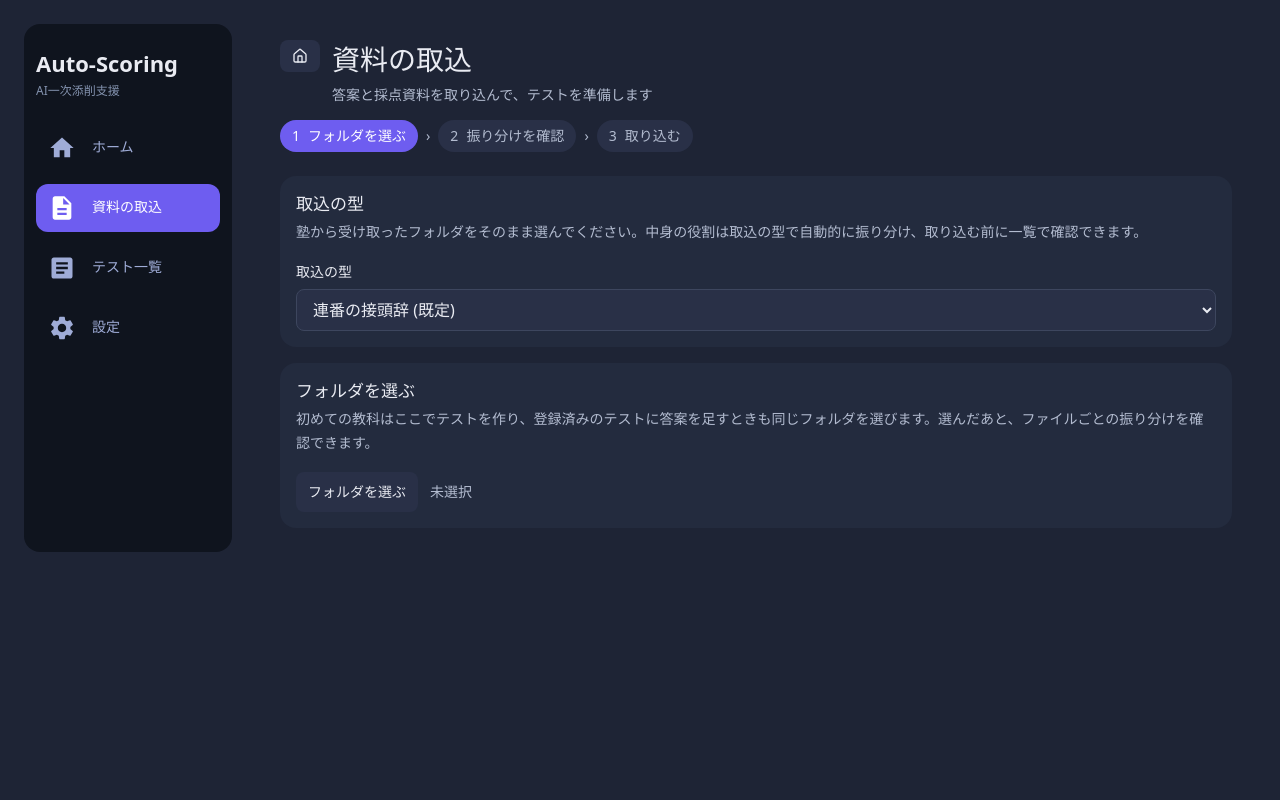
Issue #384 (1): folder-level bulk include/exclude › starts with every file included and the bulk control checked
Check: the dropdown with test id "intake-template-picker" is shown, box [296,289,1216,331]
Step 1. Click the button with test id "intake-choose-folder" → point(357, 492), box [296,472,418,512]
(page scrolled)
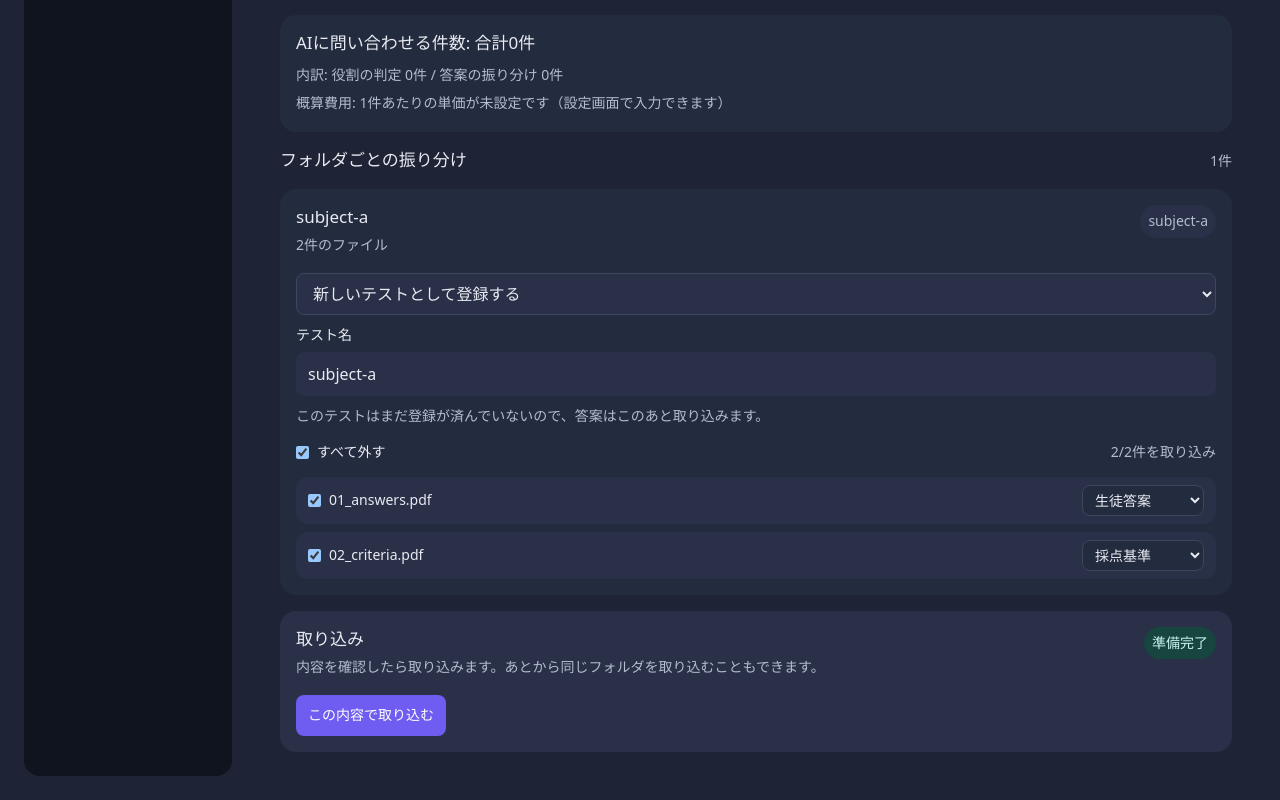
Check: the checkbox with test id "intake-group-include-subject-a" is checked, box [296,446,309,459]
Check: the text with test id "intake-group-include-summary-subject-a" reads "2/2件を取り込み", box [1111,440,1216,465]
